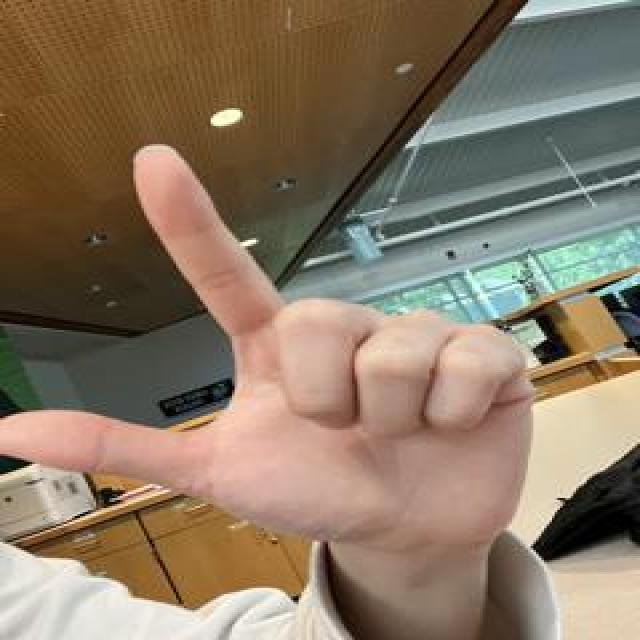L: (0, 82, 587, 628)
